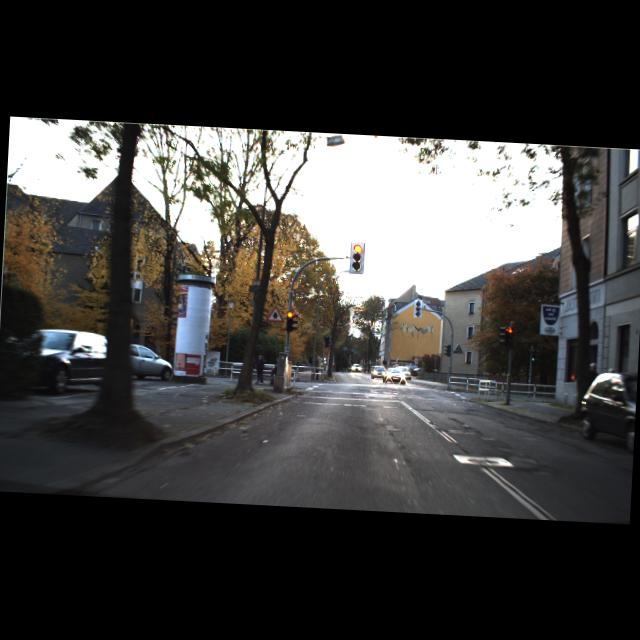danger: (266, 303, 287, 322)
